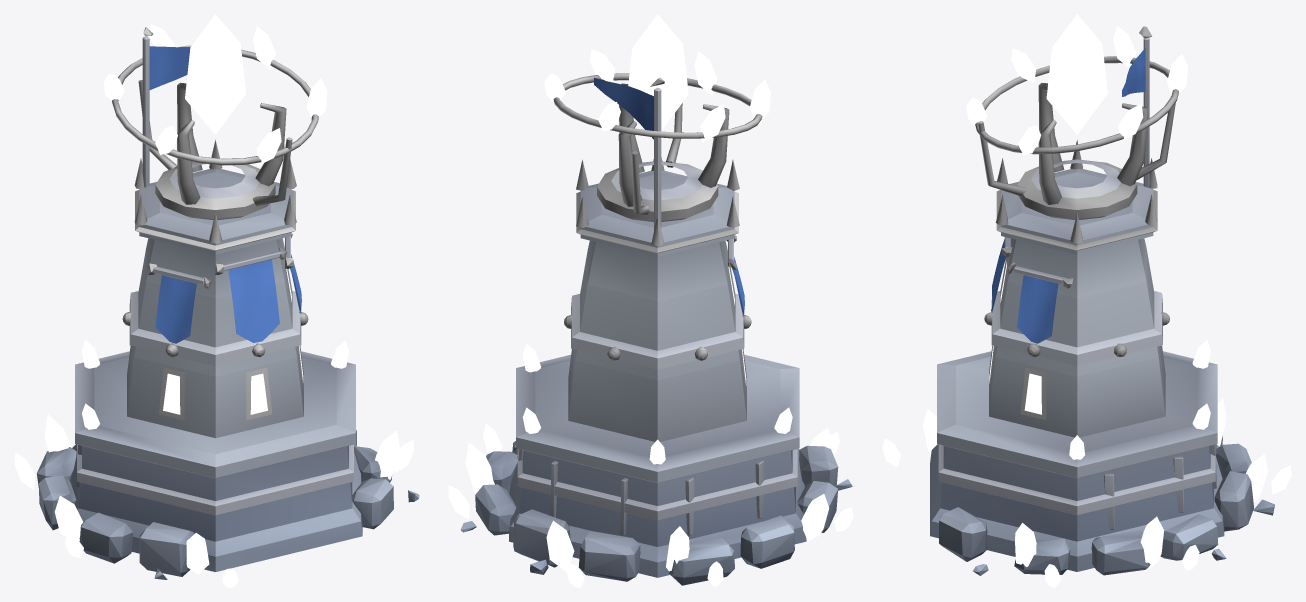
Rendered from frost_2_7.glb.
3 views of the same model, side by side, from view 1: azimuth 30°, elevation 25°; view 2: azimuth 150°, elevation 25°; view 3: azimuth 270°, elevation 25° (orthographic).
Parts seen in each view (by area): view 1: Tower, Turret; view 2: Tower, Turret; view 3: Tower, Turret.
Boxes of the visible parts, x1,y1,x2,y2 form: Tower: [14, 27, 419, 587]; Turret: [103, 14, 327, 220]; Tower: [448, 77, 853, 587]; Turret: [544, 14, 770, 221]; Tower: [882, 26, 1291, 587]; Turret: [966, 14, 1187, 219].
Bounding box in the file's own units: 4.1 × 5.48 × 4.09.
